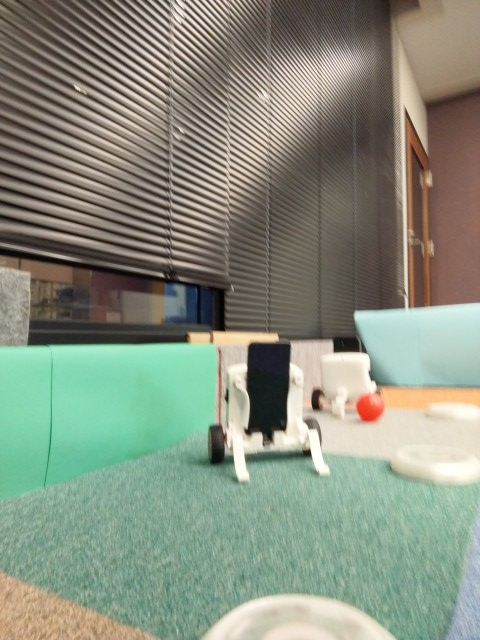br: (308, 328, 381, 423)
f: (206, 338, 330, 483)
o: (193, 587, 402, 640), (384, 440, 480, 488), (424, 398, 480, 423)
